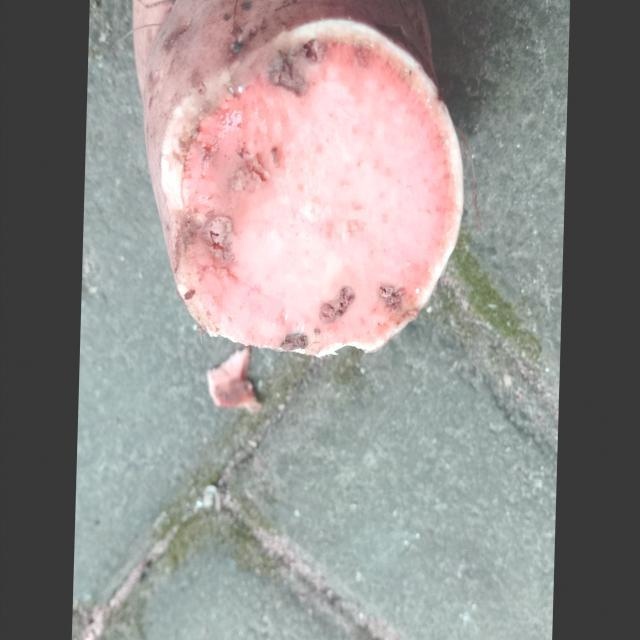Sick Sweet Potato_Tuber Rot: (181, 40, 459, 353)
